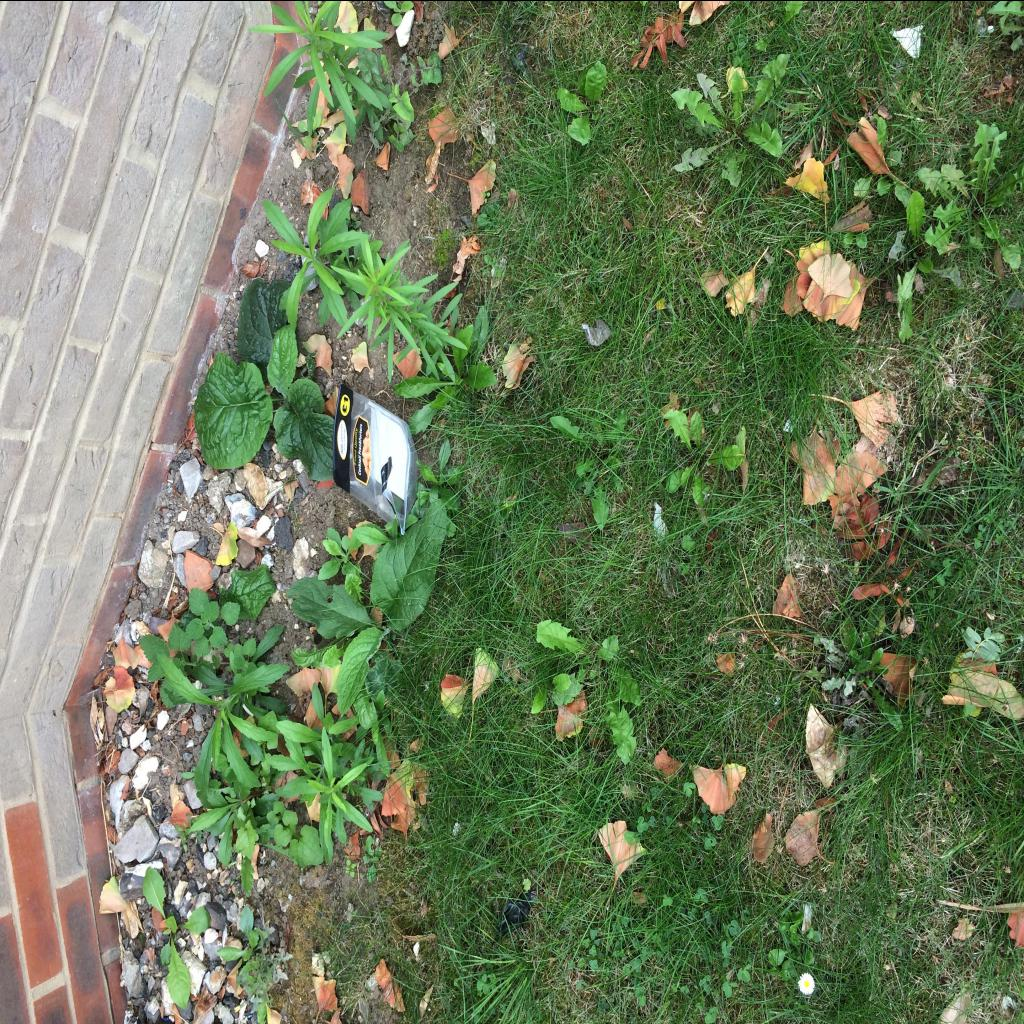Plastic film: (333, 382, 405, 534), (582, 318, 610, 344)
Unlabeled litter: (890, 24, 924, 56)
